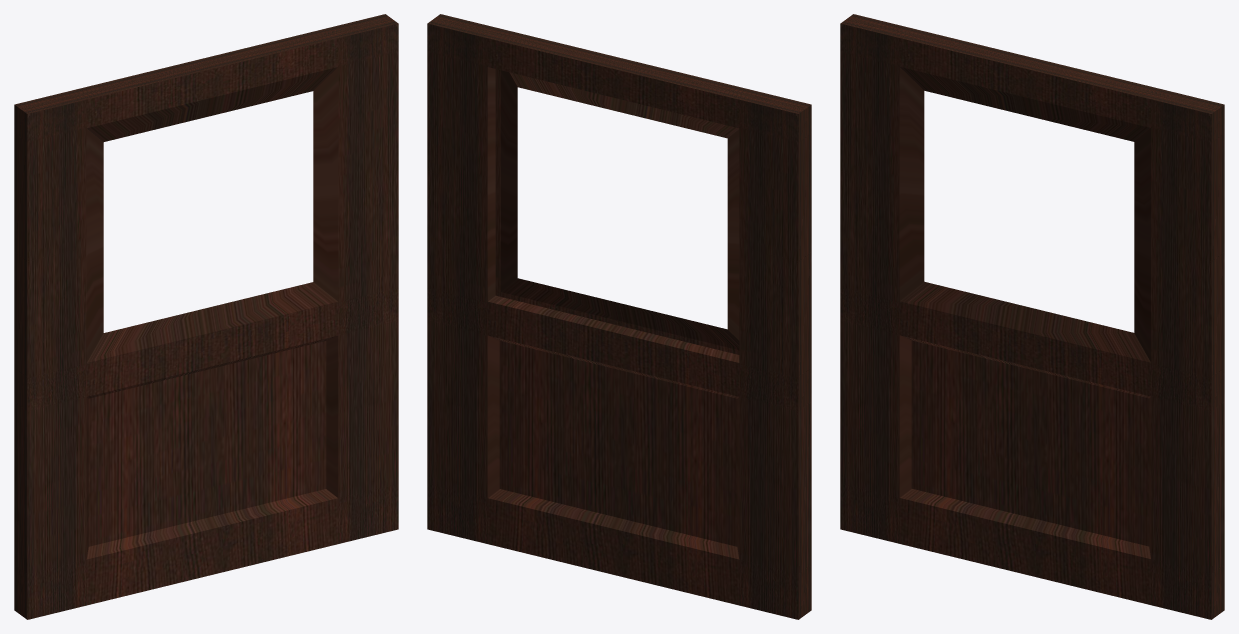
File: standard door.FBX
3 renders of one model, left to right at view 1: azimuth 30°, elevation 25°; view 2: azimuth 150°, elevation 25°; view 3: azimuth 330°, elevation 25°, orthographic.
Parts seen in each view (by area): view 1: r2-3 door; view 2: r2-3 door; view 3: r2-3 door.
Part boxes in pixels (x1,y1,x2,y2): r2-3 door: [14, 14, 398, 619]; r2-3 door: [427, 14, 811, 619]; r2-3 door: [840, 14, 1224, 619].
Bounding box in the file's own units: 5.76 × 7.51 × 0.352.
Materials: 1 (1 with a texture image).
